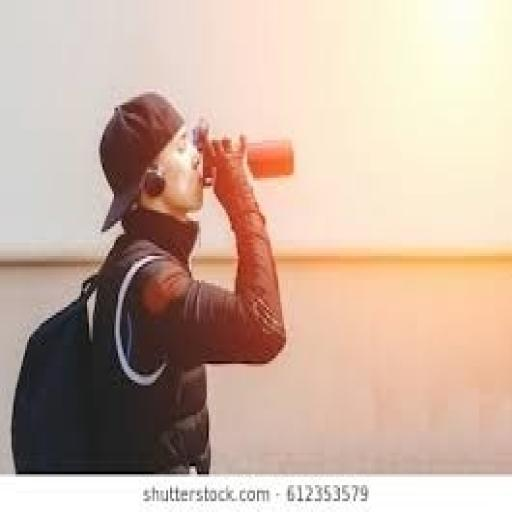drinking: (55, 53, 339, 242)
